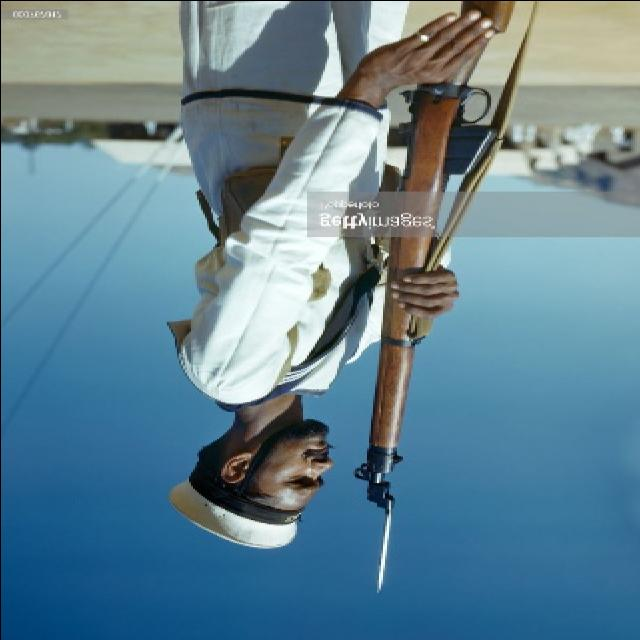rifle: (343, 2, 515, 604)
